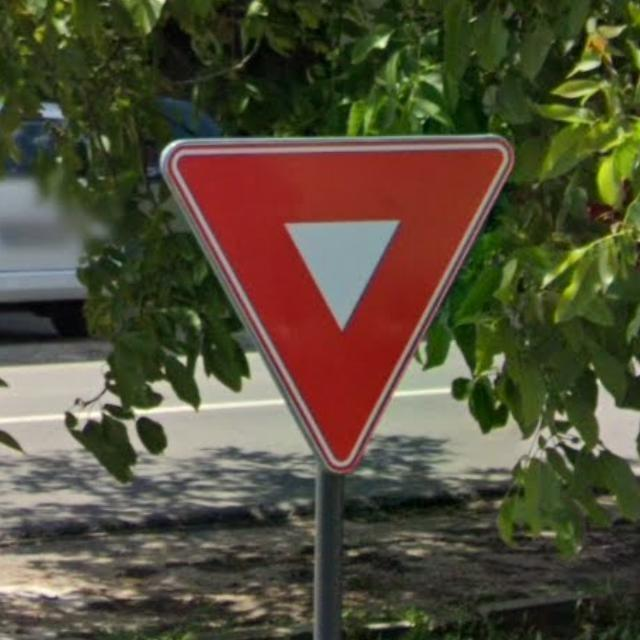prio_give_way: (153, 136, 512, 464)
